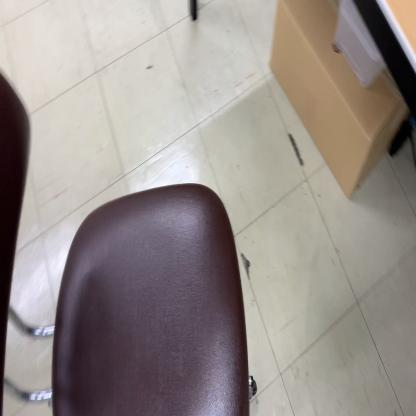chair: (0, 69, 258, 416)
